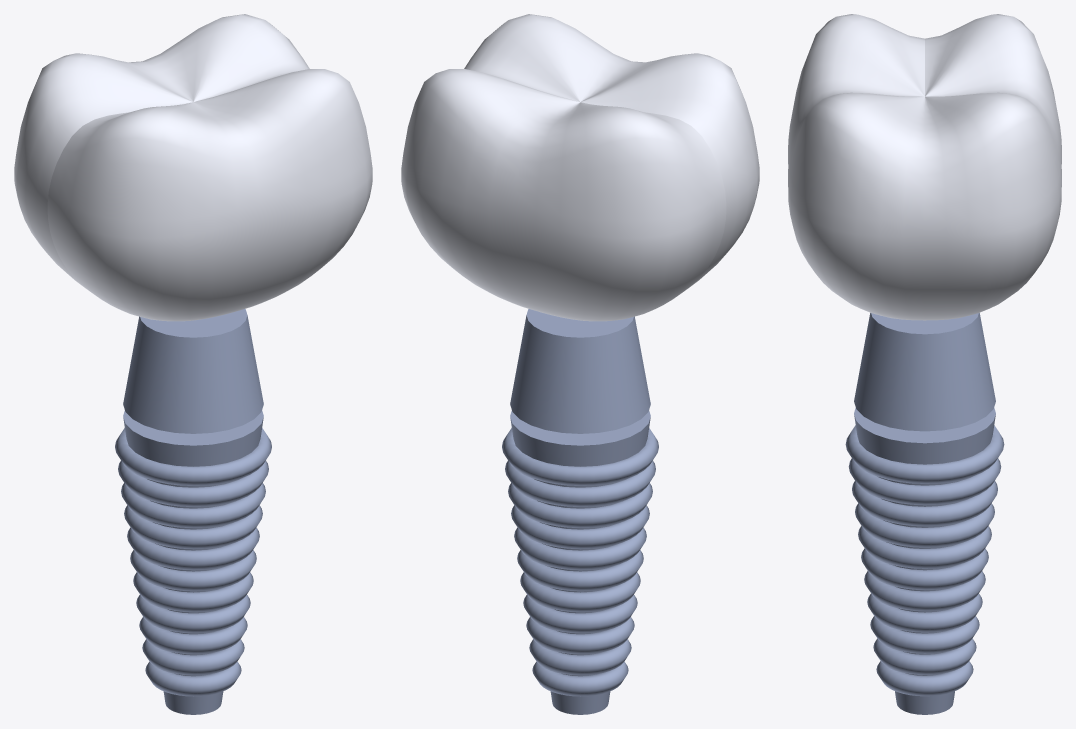
File: dental.glb
3 views of the same model, side by side, from view 1: azimuth 30°, elevation 25°; view 2: azimuth 150°, elevation 25°; view 3: azimuth 270°, elevation 25° (orthographic).
Parts seen in each view (by area): view 1: crown, fixture, abutment; view 2: crown, fixture, abutment; view 3: crown, fixture, abutment.
Boxes of the visible parts, bbox=[...] form: crown: bbox=[14, 14, 372, 321]; fixture: bbox=[115, 410, 271, 714]; abutment: bbox=[123, 309, 263, 433]; crown: bbox=[401, 14, 759, 321]; fixture: bbox=[502, 410, 658, 714]; abutment: bbox=[510, 309, 650, 433]; crown: bbox=[788, 14, 1061, 320]; fixture: bbox=[845, 407, 1004, 714]; abutment: bbox=[854, 313, 995, 431].
Bounding box in the file's own units: 1.44 × 3 × 1.16.
